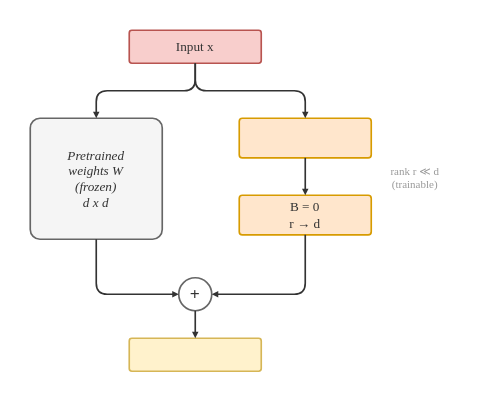
Image size: 483x400. Some labels were removed from this diagram. The centre of each missing label's shape, as x and y in pixels:
A = N(0, σ²) d → r: point 305,137
h = Wx + BAx: point 195,354
